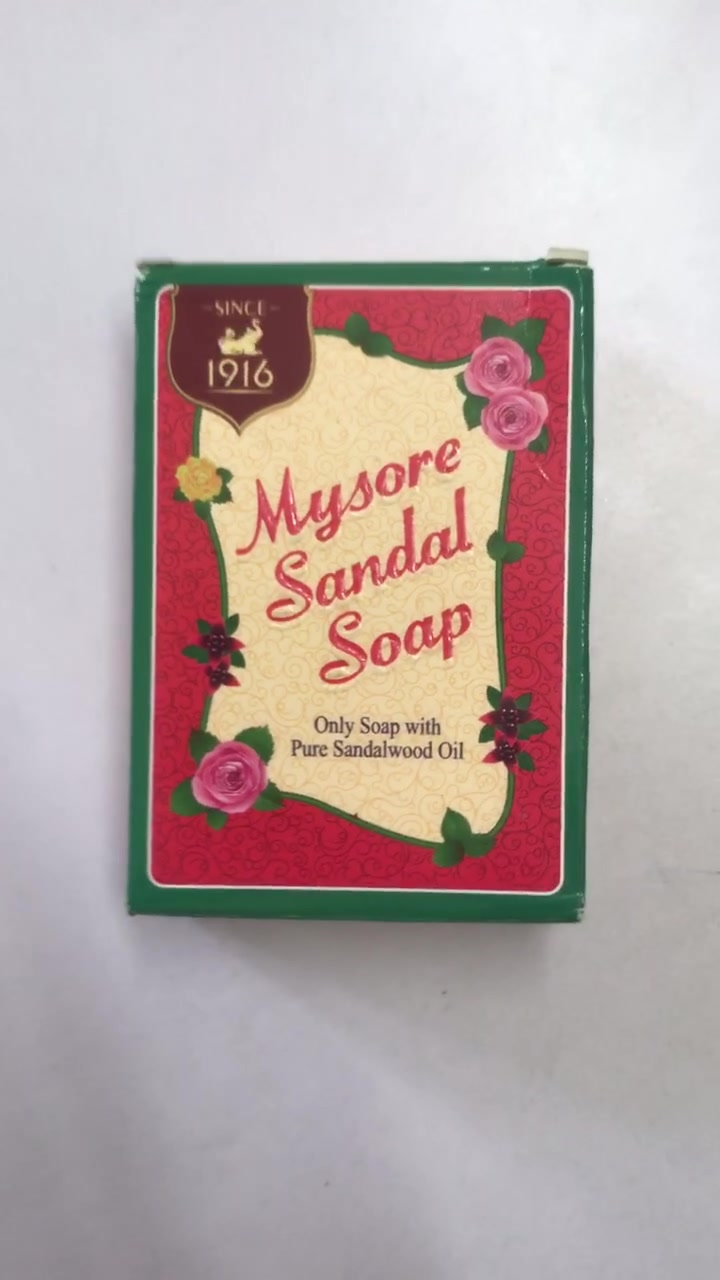mysore sandal soap: (124, 268, 581, 920)
